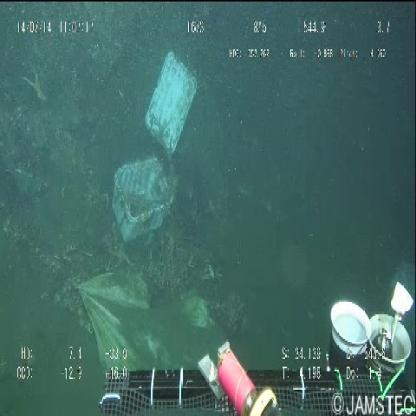Rov: (89, 277, 416, 416)
Rác: (106, 38, 204, 263)
